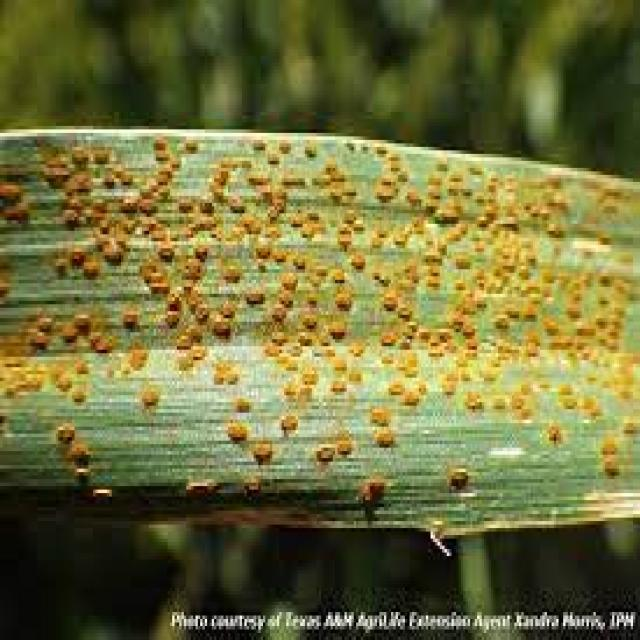leaf rust: (5, 140, 635, 507)
